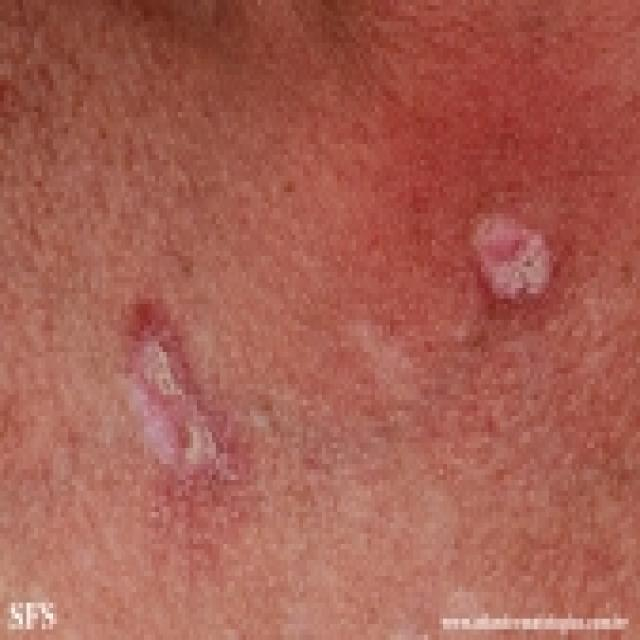lupus: (111, 211, 567, 518)
